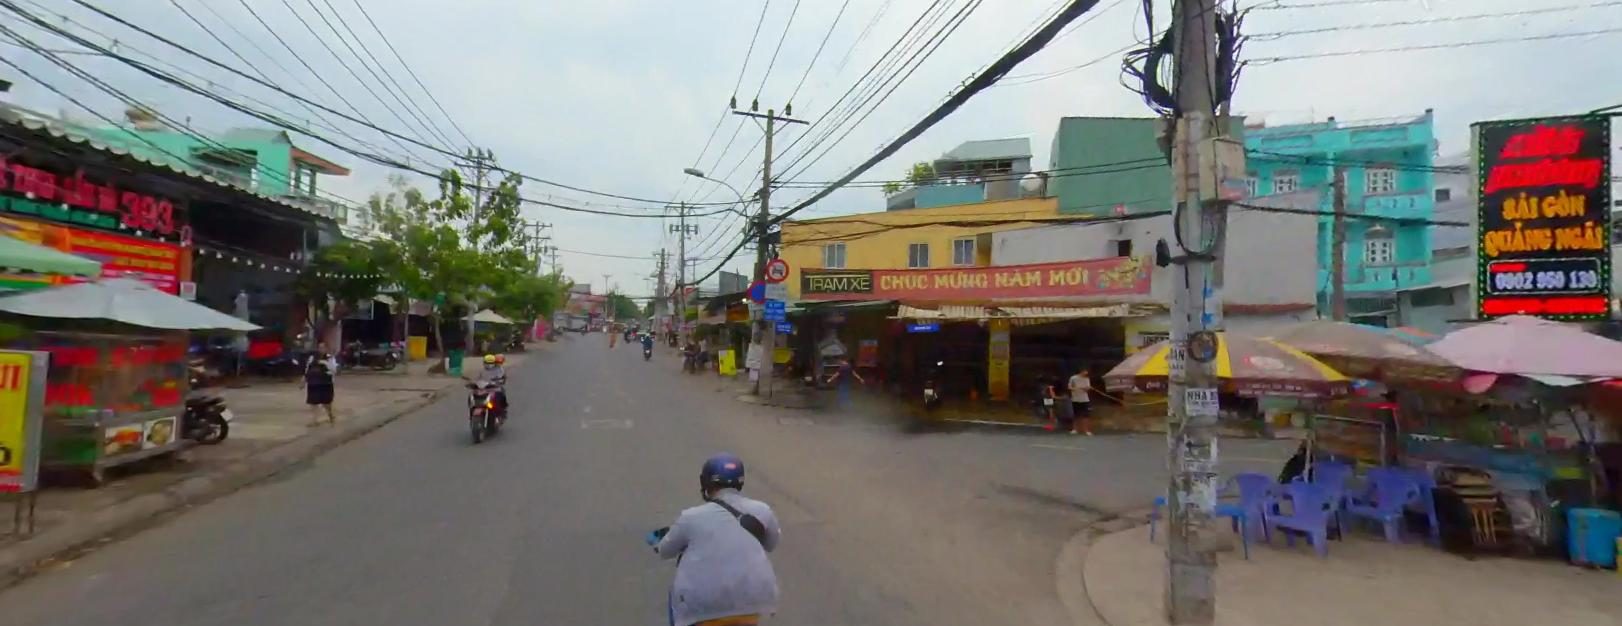Cam con lai: (764, 256, 789, 280)
Cam dung va do: (747, 279, 769, 302)
